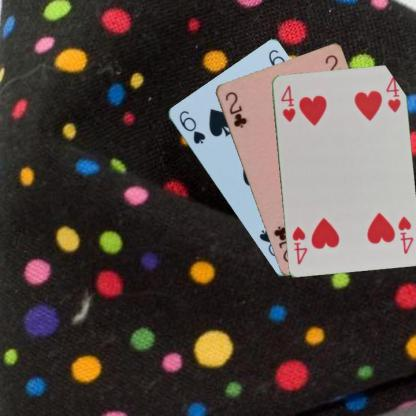2c: (222, 89, 248, 129)
4h: (395, 213, 414, 255), (278, 82, 296, 123)
6s: (176, 107, 206, 146)
